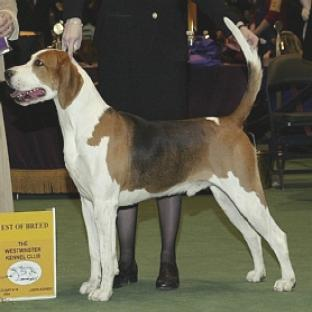Animal: (7, 17, 294, 300)
